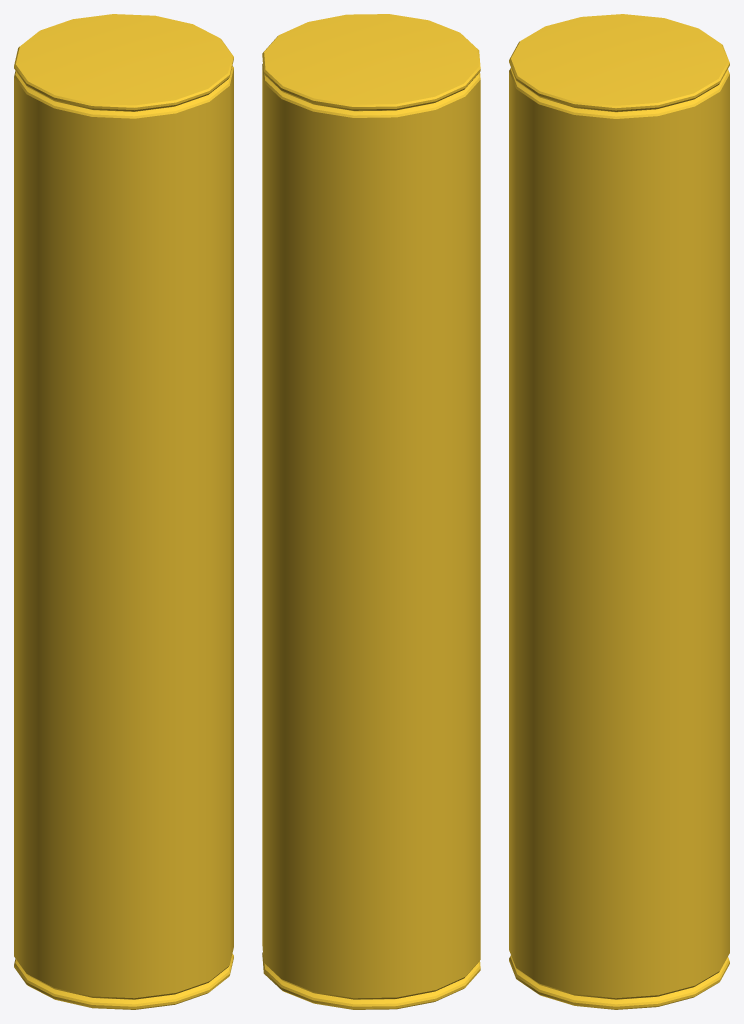
The model's file is OBS0110043.fbx.
3 views of the same model, side by side, from view 1: azimuth 30°, elevation 25°; view 2: azimuth 150°, elevation 25°; view 3: azimuth 270°, elevation 25° (orthographic).
Parts seen in each view (by area): view 1: smOBS0110043; view 2: smOBS0110043; view 3: smOBS0110043.
Part boxes in pixels (box(x1,y1,x2,y2)): smOBS0110043: box(14, 14, 233, 1009); smOBS0110043: box(262, 14, 480, 1009); smOBS0110043: box(509, 14, 729, 1009).
Bounding box in the file's own units: 24.65 × 112 × 24.65.
1 material, 1 textured.
